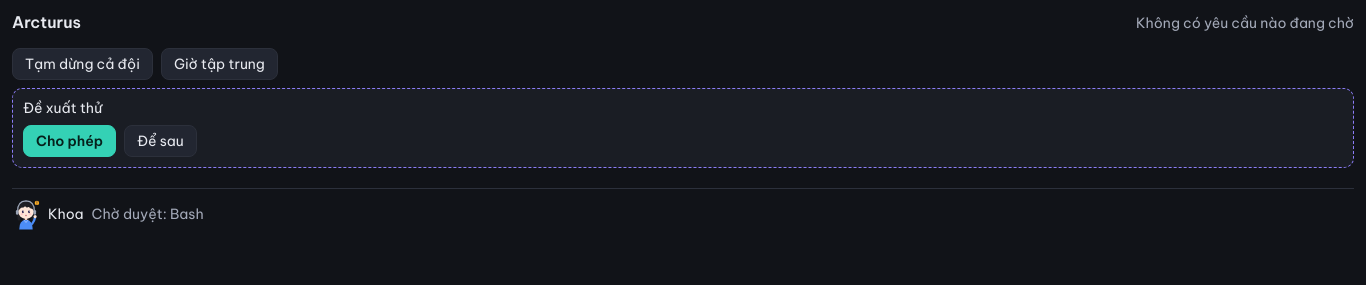
Test case: LitePopupView › suggestion_card_stays_when_not_connected_and_reports_it
Click the button "Để sau" at (160, 141), box [124, 125, 197, 157]
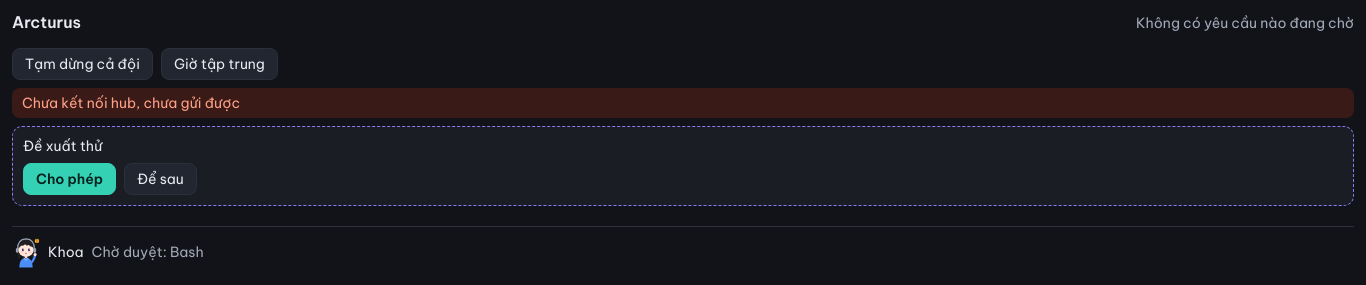
Check: the text "Đề xuất thử" is shown, box [23, 137, 102, 155]
Check: the text "Chưa kết nối hub, chưa gửi được" is shown, box [12, 88, 1354, 118]
